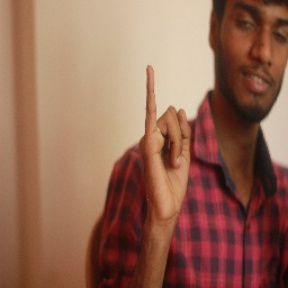I: (139, 63, 195, 215)
